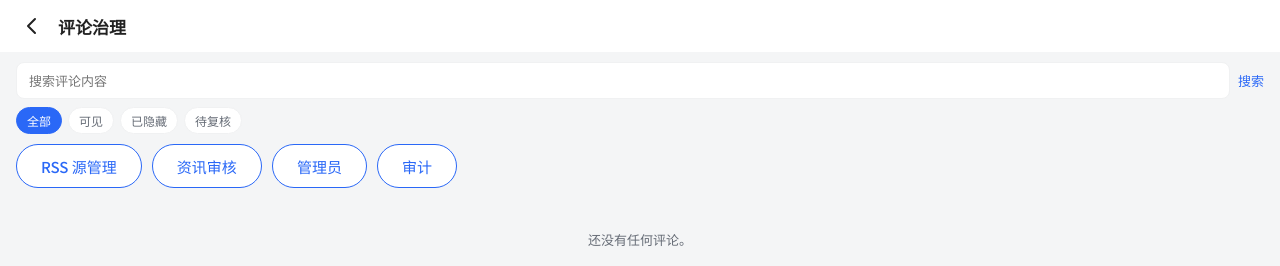
Scenario: views/AdminComments 筛选与搜索 › 筛选无结果时提示清除筛选
Click the button "可见" at [91, 120], box [68,107,114,134]
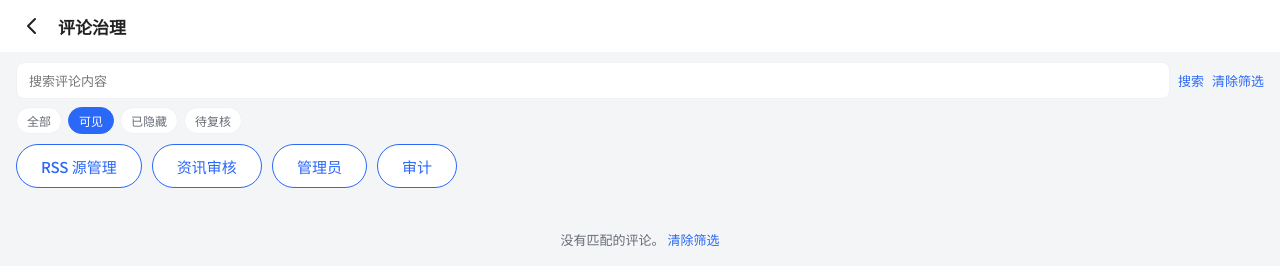
Expected: the text "没有匹配的评论" is shown, [560,230,667,249]
